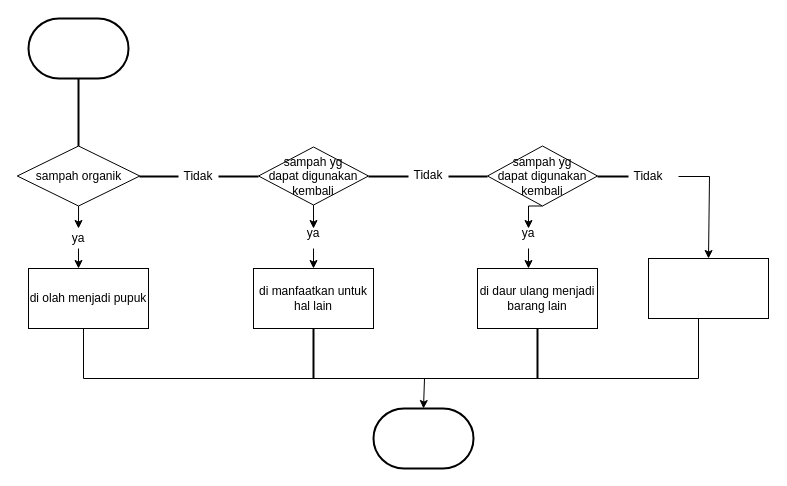
Some shapes in this 787 by 486 pixel diagram are drawn without their labels. Here are the shapes that lost their labels. From the top down, the centre of each, then its label:
At (78,48): "membuang samah".
At (708,288): "di buang ke tempat embuangan akhir".
At (423,438): "selesai".
